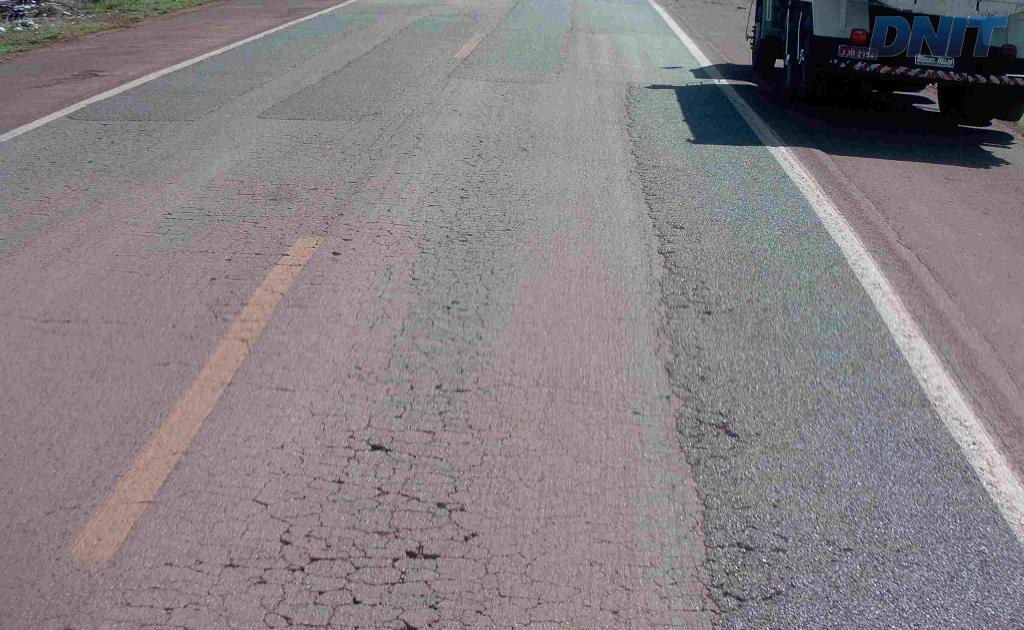crack: (369, 540, 445, 594), (306, 543, 373, 583)
